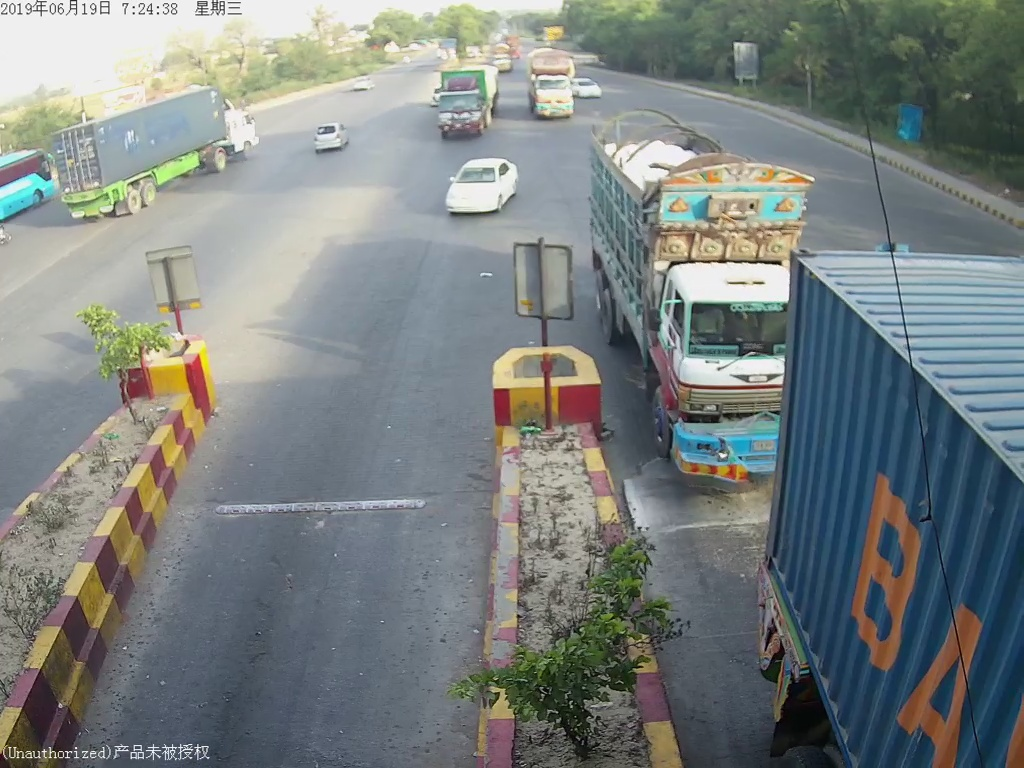Cat-1: (440, 157, 519, 221)
Cat-4: (595, 116, 765, 488)
